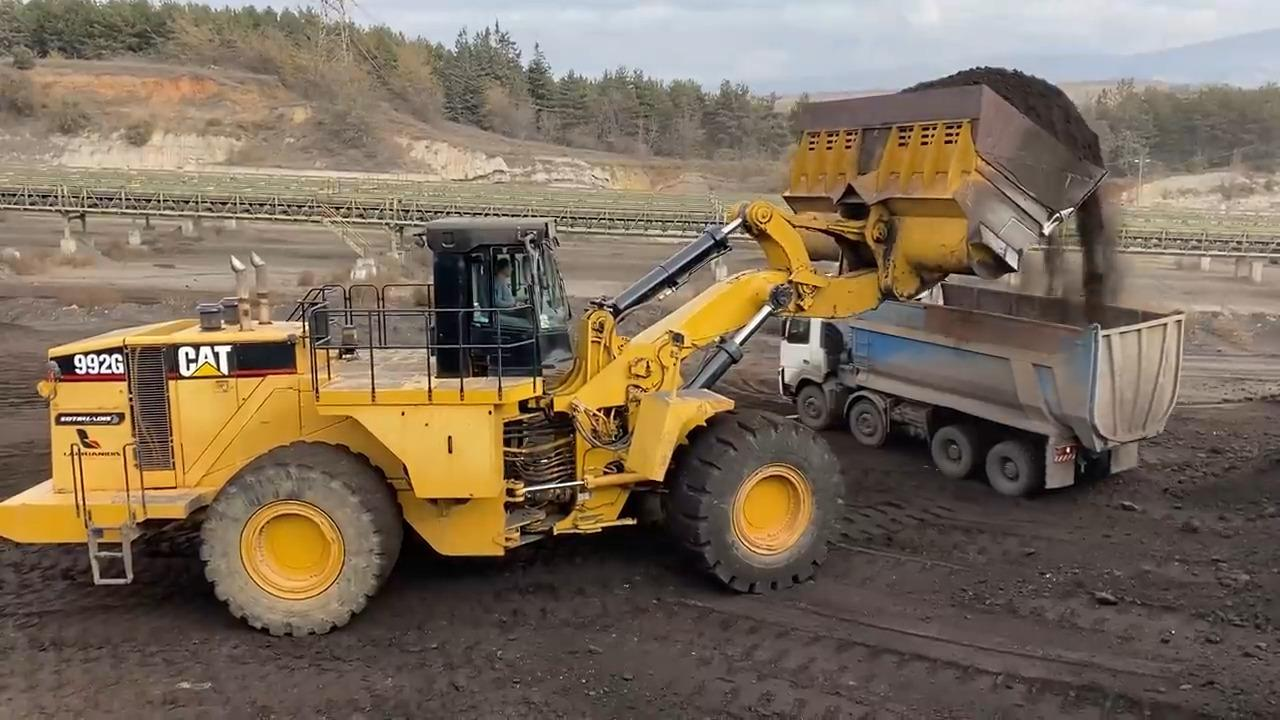dump truck: (777, 267, 1193, 501)
wheel loader: (0, 80, 1106, 645)
